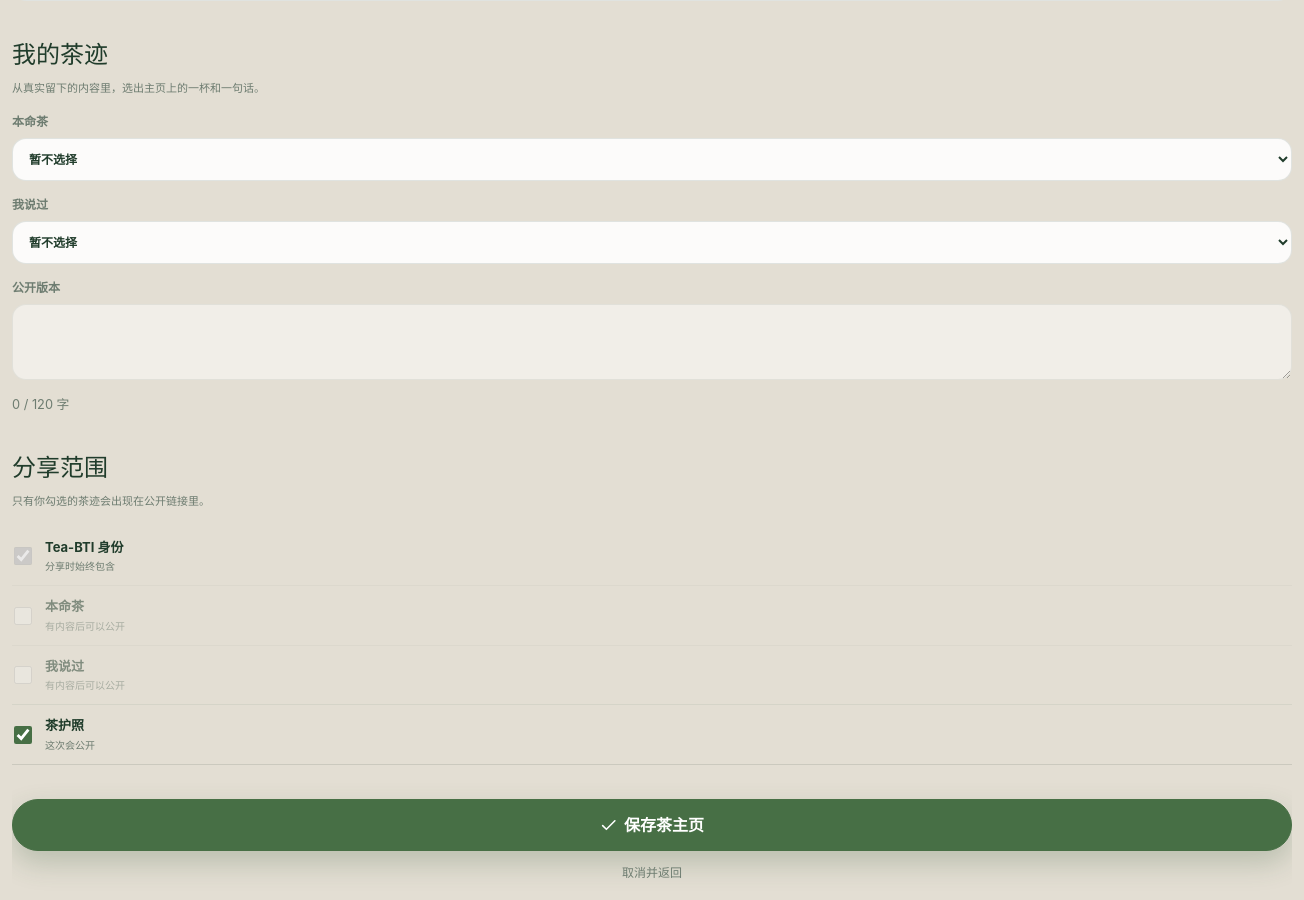
Test: ProfileEditView › keeps the editor open with a readable failure message
(page scrolled)
Step 1. Click the button "保存茶主页" → click(652, 825), box [12,799,1292,851]
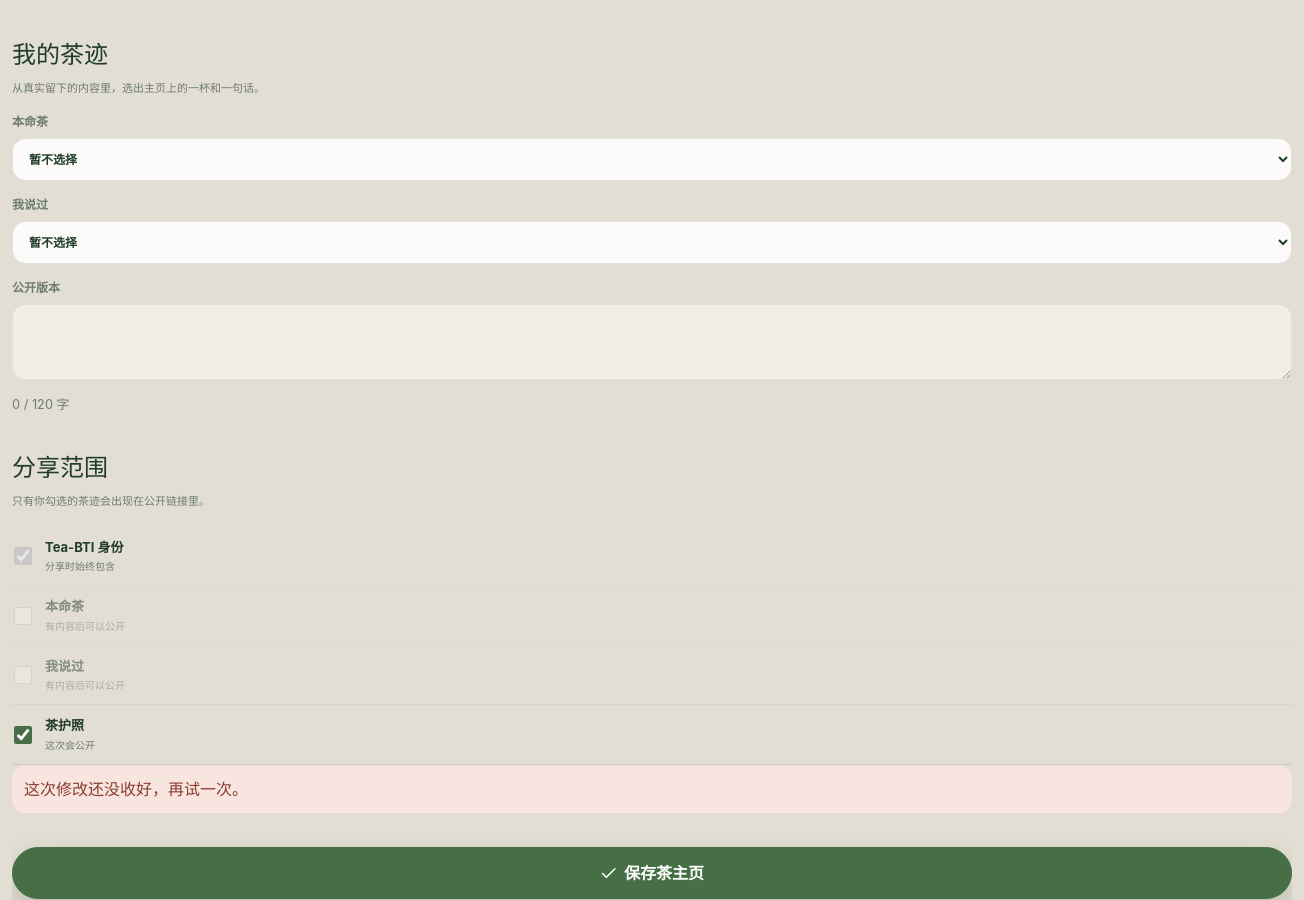
Expected: the message reads "这次修改还没收好，再试一次。", [24,779,248,799]
